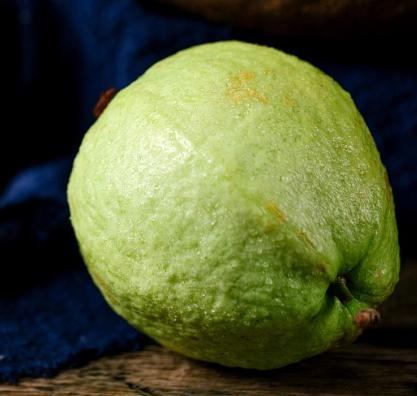guava_B: (65, 40, 401, 371)
